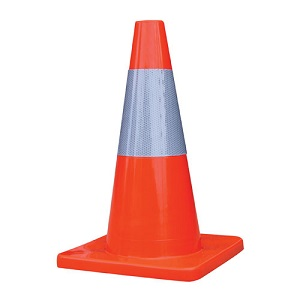traffic cone: (57, 20, 244, 282)
